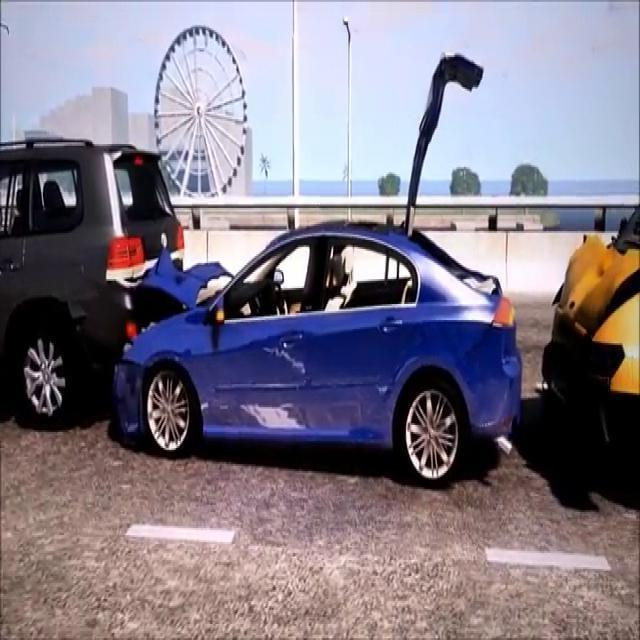accident: (0, 36, 535, 490)
